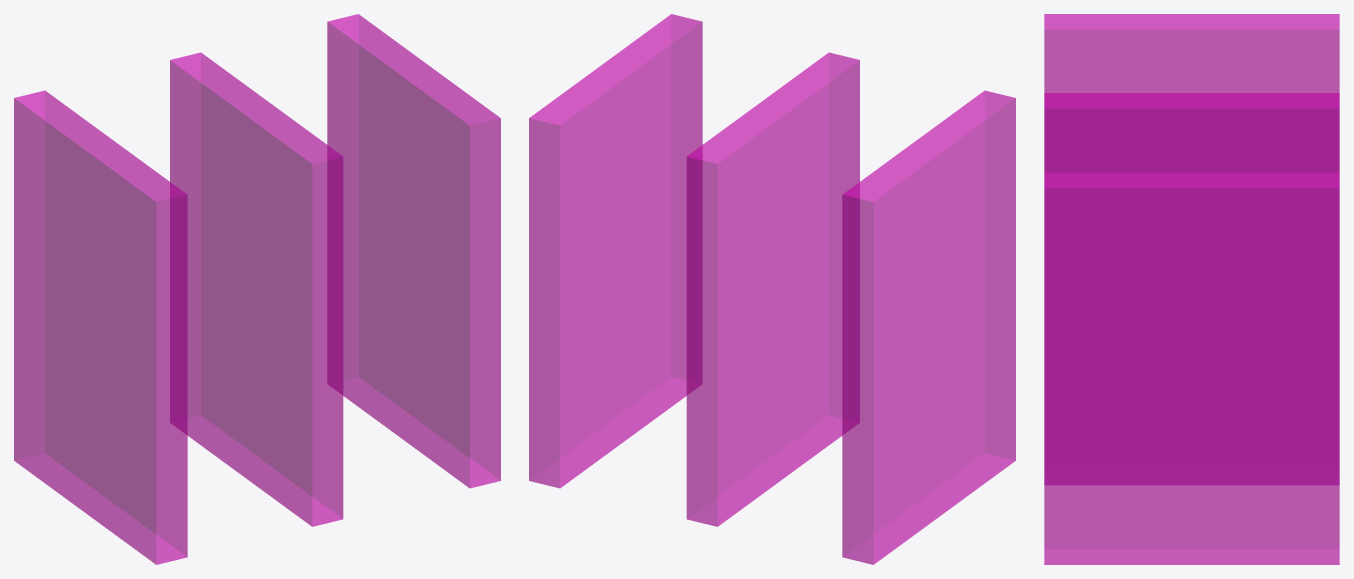
Rendered from SM_Prop_Cubical_01_Collision.fbx.
3 views of the same model, side by side, from view 1: azimuth 30°, elevation 25°; view 2: azimuth 150°, elevation 25°; view 3: azimuth 270°, elevation 25° (orthographic). The views are drawn at different scales.
Visible parts, largest first — view 1: SM_Prop_Cubical_01_Collision; view 2: SM_Prop_Cubical_01_Collision; view 3: SM_Prop_Cubical_01_Collision.
Boxes of the visible parts, left/top/right/bottom form: SM_Prop_Cubical_01_Collision: left=14, top=14, right=500, bottom=564; SM_Prop_Cubical_01_Collision: left=529, top=14, right=1015, bottom=564; SM_Prop_Cubical_01_Collision: left=1044, top=14, right=1339, bottom=564.
Size of the model in its own units: 220 by 222 by 158.
